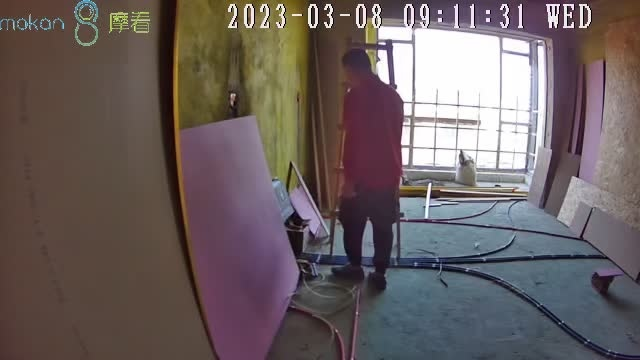people: (337, 49, 403, 288)
window: (374, 20, 543, 182)
